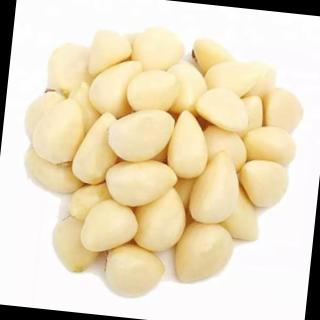Bawang Putih: (171, 216, 237, 289), (30, 94, 89, 170), (105, 105, 176, 168), (102, 156, 180, 210), (190, 147, 242, 226), (79, 197, 142, 256), (88, 56, 145, 121), (193, 86, 253, 137), (130, 24, 188, 76), (236, 158, 291, 212), (125, 67, 182, 118), (239, 123, 300, 166)
